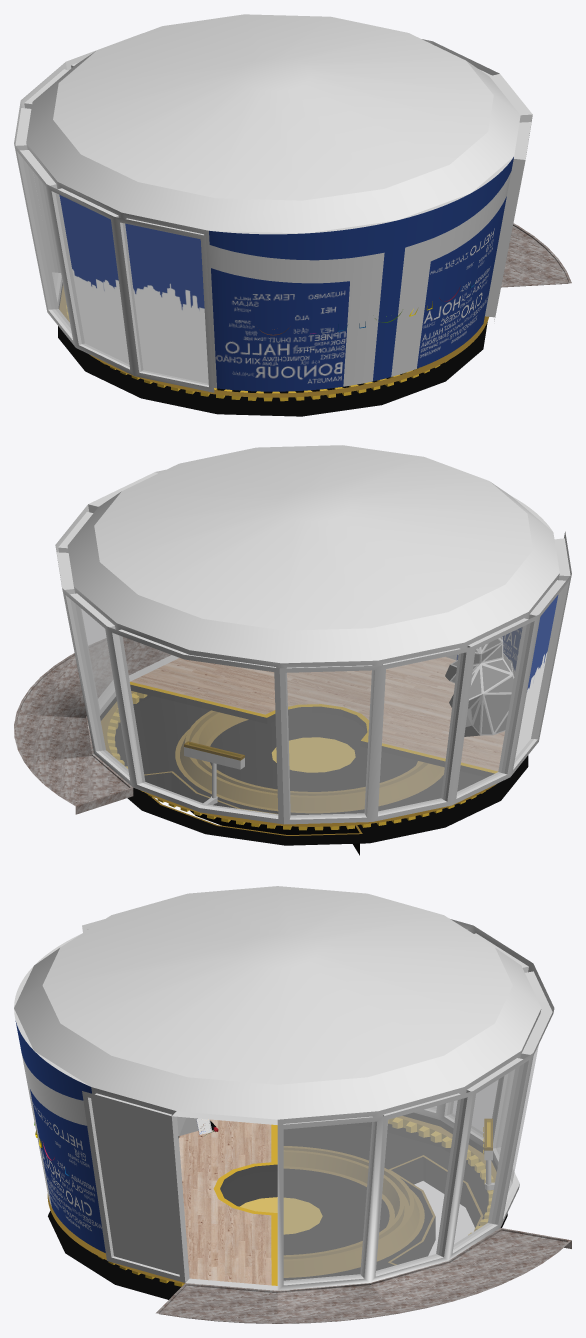
The model's file is mdl_zesty_room_static.gltf.
The picture shows the model from 3 angles, top to bottom: view 1: azimuth 30°, elevation 25°; view 2: azimuth 150°, elevation 25°; view 3: azimuth 270°, elevation 25°; orthographic projection. The views are drawn at different scales.
Parts seen in each view (by area): view 1: mdl_zesty_room_static; view 2: mdl_zesty_room_static; view 3: mdl_zesty_room_static.
Boxes of the visible parts, x1=… form: mdl_zesty_room_static: x1=14, y1=14, x2=571, y2=416; mdl_zesty_room_static: x1=14, y1=445, x2=571, y2=855; mdl_zesty_room_static: x1=14, y1=886, x2=571, y2=1323.
Size of the model in its own units: 9.71 by 5.2 by 9.1.
34 materials, 9 textured.
